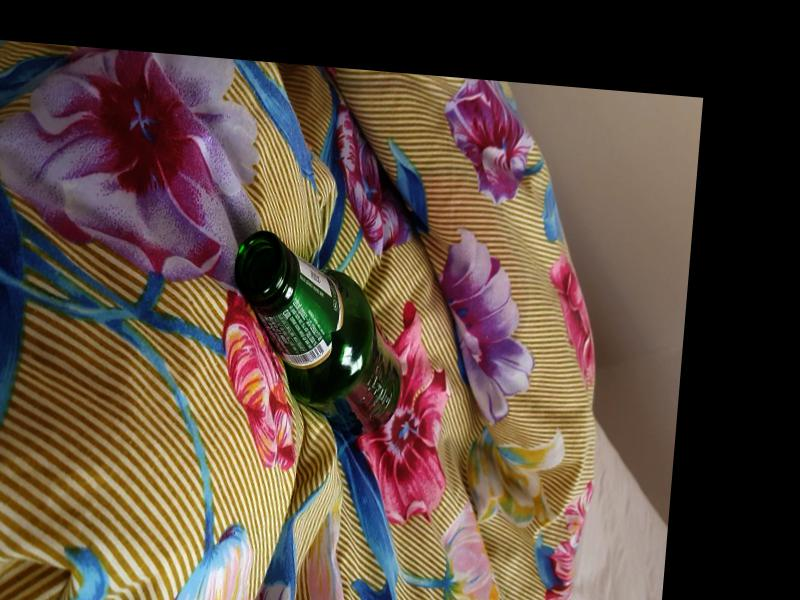Beer: (219, 226, 413, 438)
